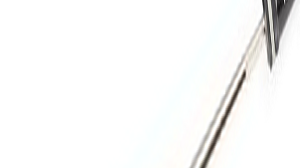screwdriver: (194, 2, 288, 168)
